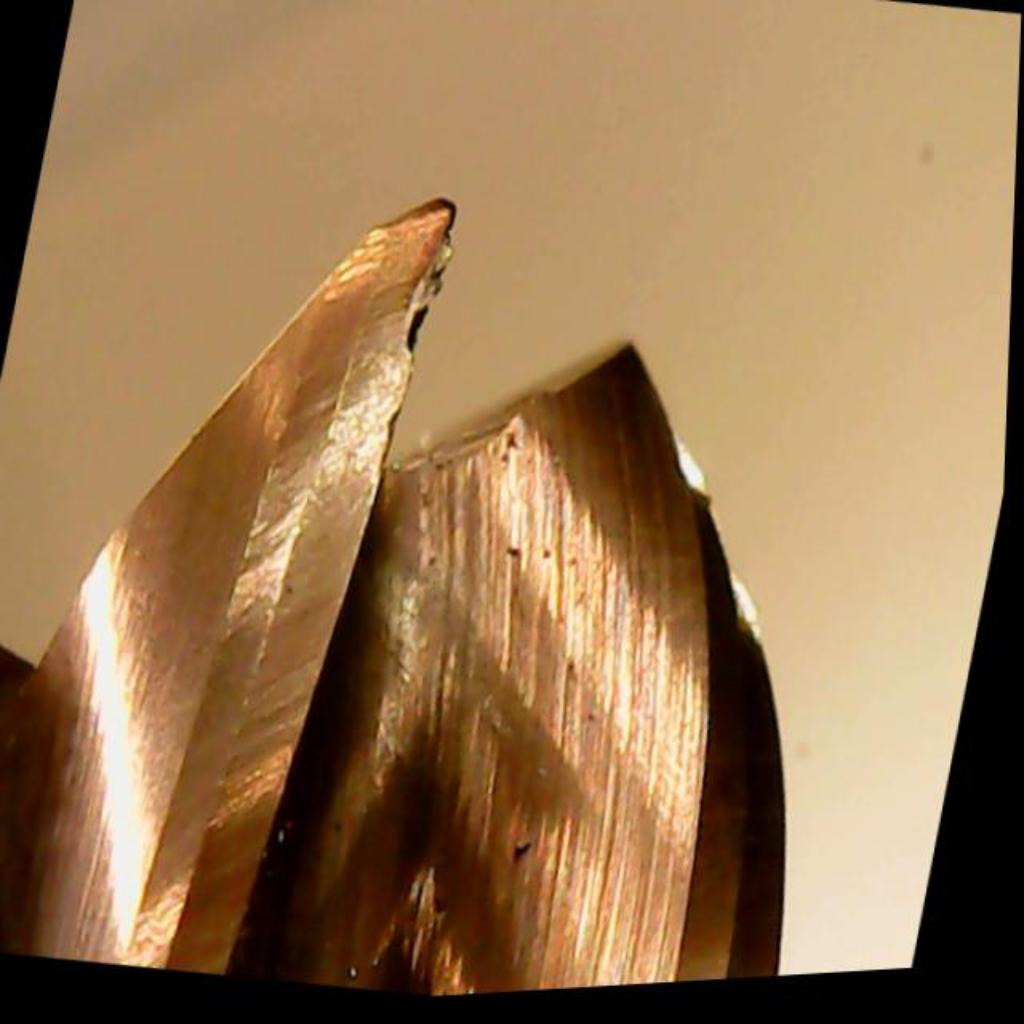Tool-wear-class-1: (225, 189, 473, 629)
